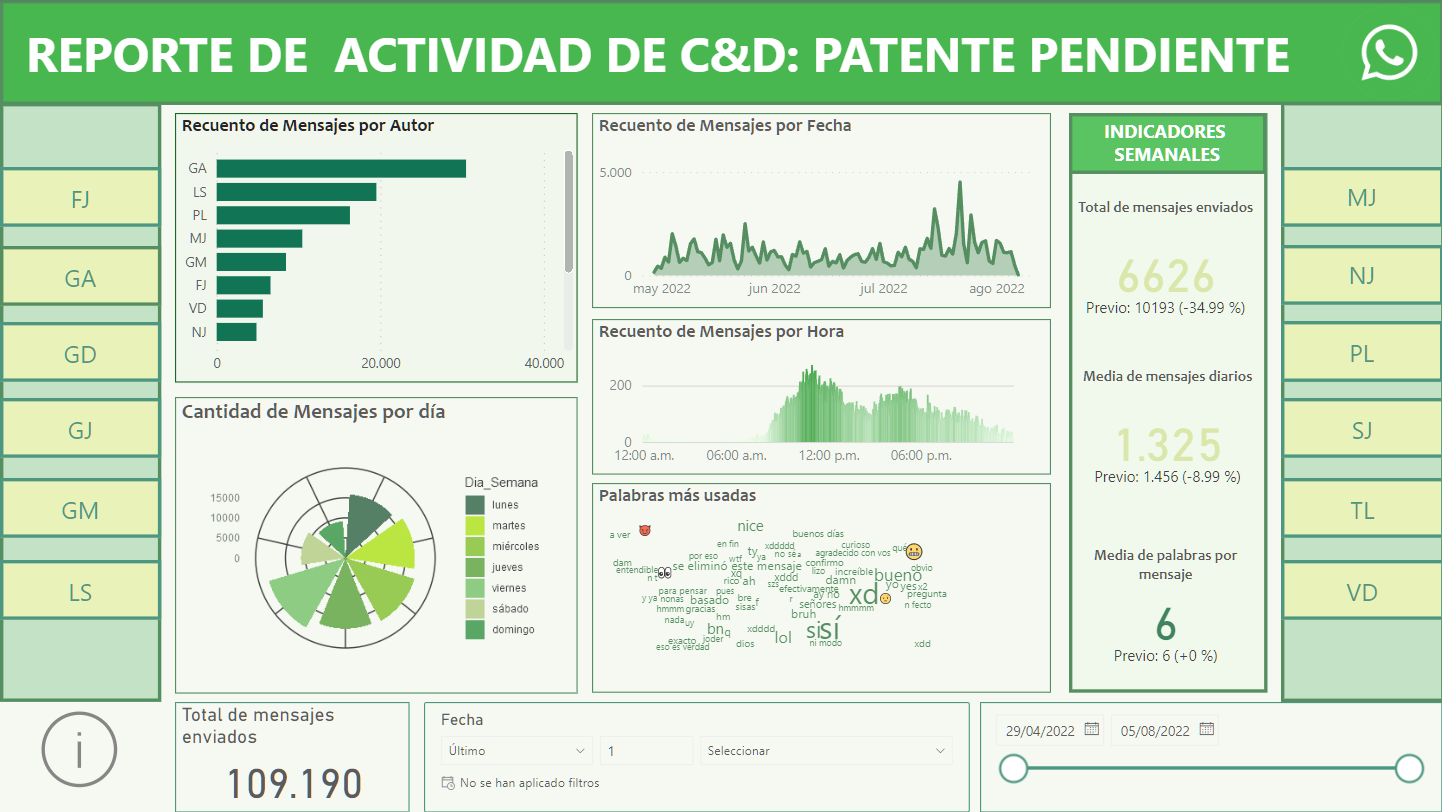

What the dashboard file says about the page in this screenshot:
{"tool":"powerbi","page":{"name":"Main","canvas":[1280,720],"ordinal":0},"visuals":[{"type":"shape","box":[0,112.6,199.5,523.2],"z":0},{"type":"shape","box":[0,0,1280,118.7],"z":1000},{"type":"image","box":[1167.2,5.8,112.8,106],"z":2000},{"type":"textbox","box":[0,24.3,1167.2,69.1],"z":3000},{"type":"shape","box":[1080,112.6,199.5,523.2],"z":4000},{"type":"slicer","fields":{"Values":["whatsapp_chat mychats.Fecha"]},"box":[419.4,635.8,440.7,85.1],"z":5000},{"type":"columnChart","title":"Recuento de Mensajes por Hora","fields":{"Category":["whatsapp_chat mychats.Hora"],"Y":["CountNonNull(whatsapp_chat mychats.Indice)"]},"box":[583.4,118.8,381.3,275.8],"z":6000},{"type":"donutChart","title":"Proporción de Sentimiento por Mensajes","fields":{"Category":["whatsapp_chat mychats.Sentimiento"],"Y":["CountNonNull(whatsapp_chat mychats.Indice)"]},"box":[199.5,394.6,383.9,241.2],"z":7000},{"type":"barChart","title":"Recuento de Mensajes por Autor","fields":{"Category":["whatsapp_chat mychats.Autor"],"Y":["CountNonNull(whatsapp_chat mychats.Indice)"]},"box":[200.4,118.8,383.1,275.8],"z":8000},{"type":"actionButton","box":[0,518.7,199.5,53.2],"z":9000},{"type":"actionButton","box":[0,445.1,199.5,53.2],"z":10000},{"type":"actionButton","box":[0,374.2,199.5,53.2],"z":11000},{"type":"actionButton","box":[0,306.8,199.5,53.2],"z":12000},{"type":"actionButton","box":[0,239.4,199.5,53.2],"z":13000},{"type":"actionButton","box":[0,169.4,199.5,53.2],"z":14000},{"type":"actionButton","box":[1080.4,518.7,199.5,53.2],"z":15000},{"type":"actionButton","box":[1080.4,445.1,199.5,53.2],"z":16000},{"type":"actionButton","box":[1080.4,374.2,199.5,53.2],"z":17000},{"type":"actionButton","box":[1080.4,306.8,199.5,53.2],"z":18000},{"type":"actionButton","box":[1080.4,239.4,199.5,53.2],"z":19000},{"type":"actionButton","box":[1080.4,169.4,199.5,53.2],"z":20000},{"type":"WordCloud1447959067750","title":"Palabras más usadas","fields":{"Category":["whatsapp_chat mychats.Mensaje"],"Values":["CountNonNull(whatsapp_chat mychats.Indice)"]},"box":[583.4,394.6,381.3,241.2],"z":21000},{"type":"actionButton","box":[56.7,635.8,86,84.2],"z":22000},{"type":"card","title":"Total de mensajes enviados","fields":{"Values":["CountNonNull(whatsapp_chat mychats.Indice)"]},"box":[199.5,635.8,220.8,84.2],"z":23000},{"type":"slicer","fields":{"Values":["whatsapp_chat mychats.Fecha"]},"box":[860.4,635.7,418.7,84.3],"z":24000},{"type":"card","title":"Media de Mensajes diarios","fields":{"Values":["Tabla_Medidas.Media_Mensajes"]},"box":[964.7,175.6,115.3,94],"z":24001},{"type":"card","title":"Media de Palabras por Mensaje","fields":{"Values":["Tabla_Medidas.Media_Palabras_Por_Mensaje"]},"box":[964.7,333.4,116.2,94],"z":24002},{"type":"card","title":"Total de Palabras enviadas","fields":{"Values":["Sum(whatsapp_chat mychats.Cantidad_Palabras)"]},"box":[964.7,477.9,115.3,94],"z":24003}]}

Visuals, with their boxes in screenshot pixels (x1, y1, x2, y2), scaled from the page's 1280x720 canvas onto the 1442x812 screenshot:
shape: 0 127 225 717
shape: 0 0 1441 134
image: 1315 7 1441 126
textbox: 0 27 1315 105
shape: 1217 127 1441 717
slicer - whatsapp_chat mychats.Fecha: 472 717 969 811
"Recuento de Mensajes por Hora" columnChart: 657 134 1087 445
"Proporción de Sentimiento por Mensajes" donutChart: 225 445 657 717
"Recuento de Mensajes por Autor" barChart: 226 134 657 445
actionButton: 0 585 225 645
actionButton: 0 502 225 562
actionButton: 0 422 225 482
actionButton: 0 346 225 406
actionButton: 0 270 225 330
actionButton: 0 191 225 251
actionButton: 1217 585 1441 645
actionButton: 1217 502 1441 562
actionButton: 1217 422 1441 482
actionButton: 1217 346 1441 406
actionButton: 1217 270 1441 330
actionButton: 1217 191 1441 251
"Palabras más usadas" WordCloud1447959067750: 657 445 1087 717
actionButton: 64 717 161 811
"Total de mensajes enviados" card: 225 717 473 811
slicer - whatsapp_chat mychats.Fecha: 969 717 1441 811
"Media de Mensajes diarios" card: 1087 198 1217 304
"Media de Palabras por Mensaje" card: 1087 376 1218 482
"Total de Palabras enviadas" card: 1087 539 1217 645
